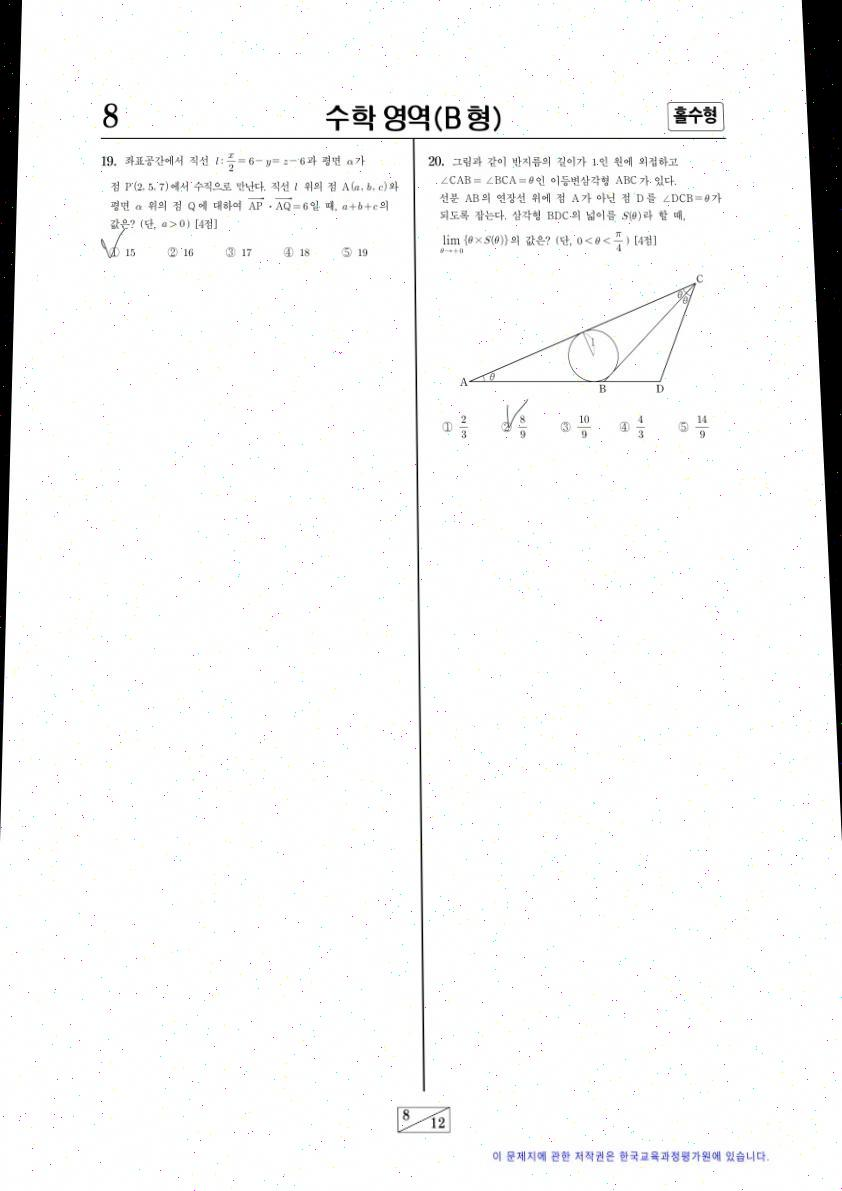question: (419, 144, 733, 454), (83, 143, 409, 279)
